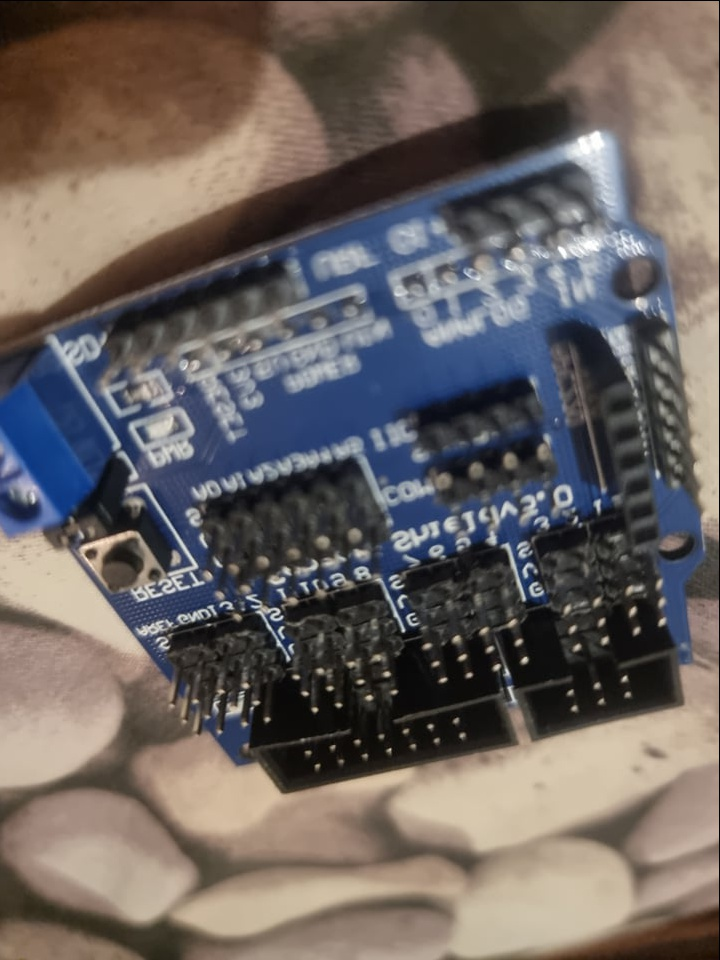5V EXPANSION: (1, 122, 703, 793)
